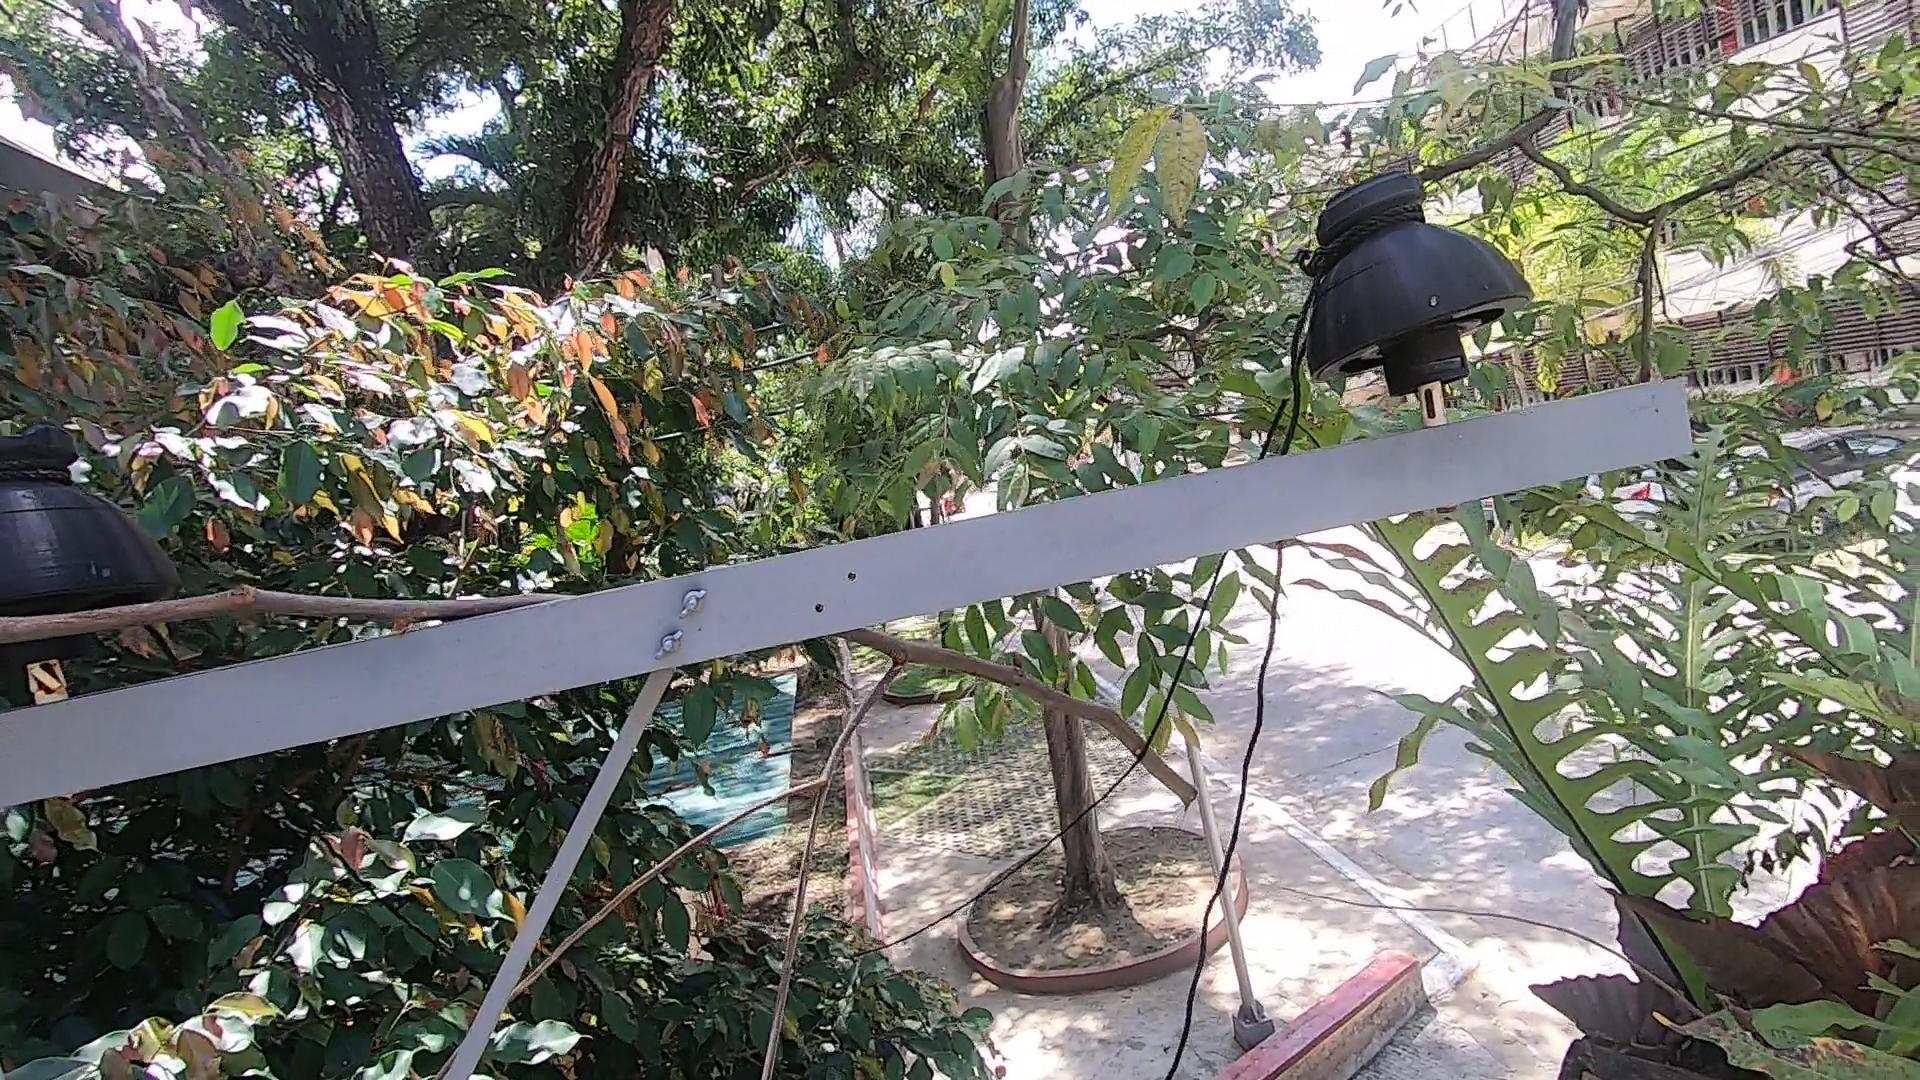tree branch: (431, 620, 1236, 1080), (1, 575, 585, 715)
